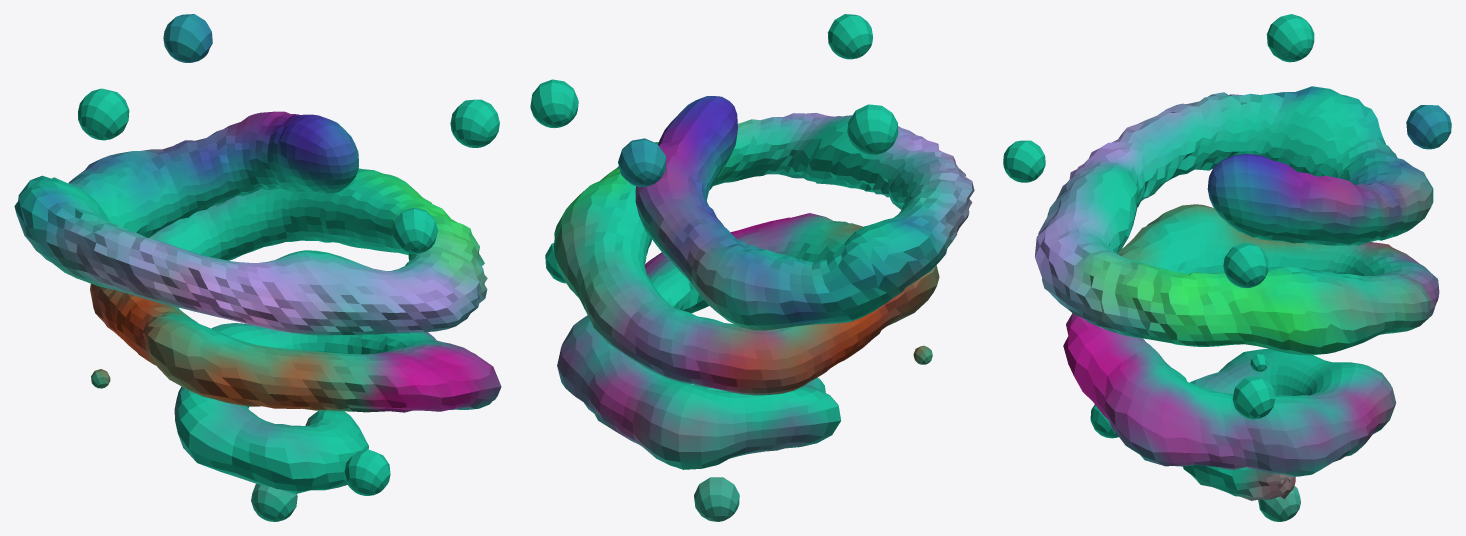
File: thought.fbx
The picture shows the model from 3 angles, left to right: view 1: azimuth 30°, elevation 25°; view 2: azimuth 150°, elevation 25°; view 3: azimuth 270°, elevation 25°; orthographic projection. The views are drawn at different scales.
Parts seen in each view (by area): view 1: Thought Bubble; view 2: Thought Bubble; view 3: Thought Bubble.
Part boxes in pixels (x1=…): Thought Bubble: x1=14, y1=14, x2=501, y2=521; Thought Bubble: x1=530, y1=14, x2=974, y2=521; Thought Bubble: x1=1003, y1=14, x2=1451, y2=521.
Bounding box in the file's own units: 297 × 303 × 287.
Materials: 1 (1 with a texture image).
